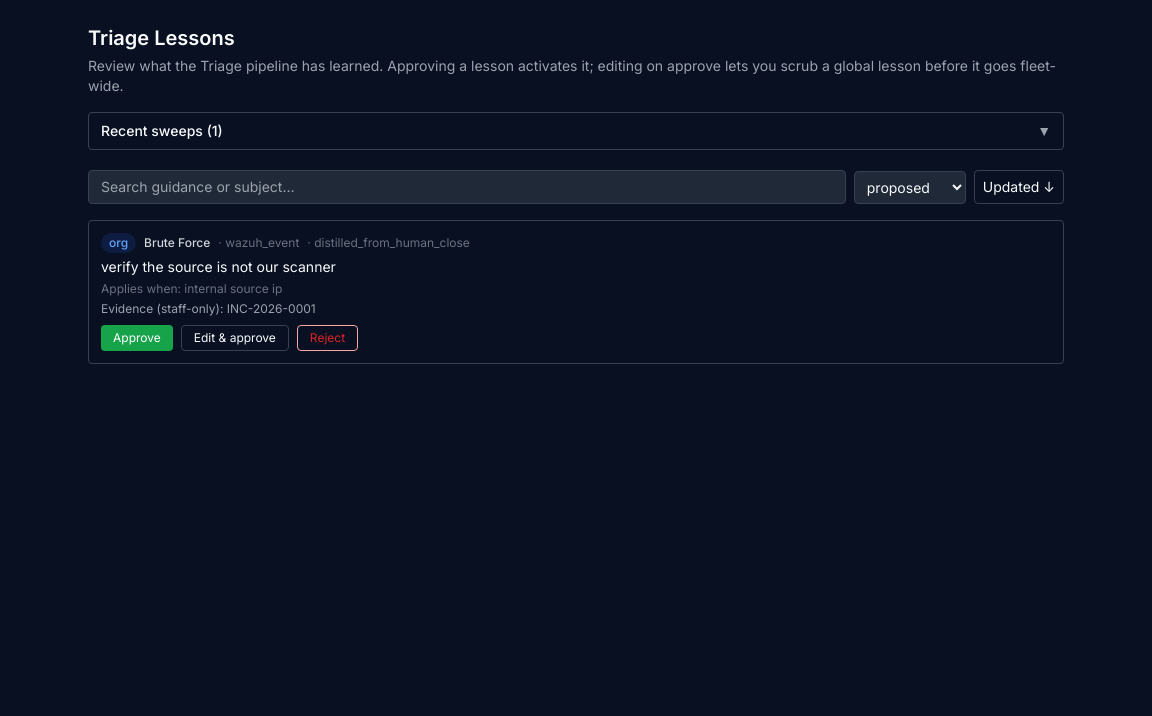
Test: TriageLessonsReview — recent sweeps (#697) › exposes the distiller LLM I/O and errors for troubleshooting (#697)
Step 1. Click the text "Recent sweeps (1)" → (162, 131), box [101,121,223,141]
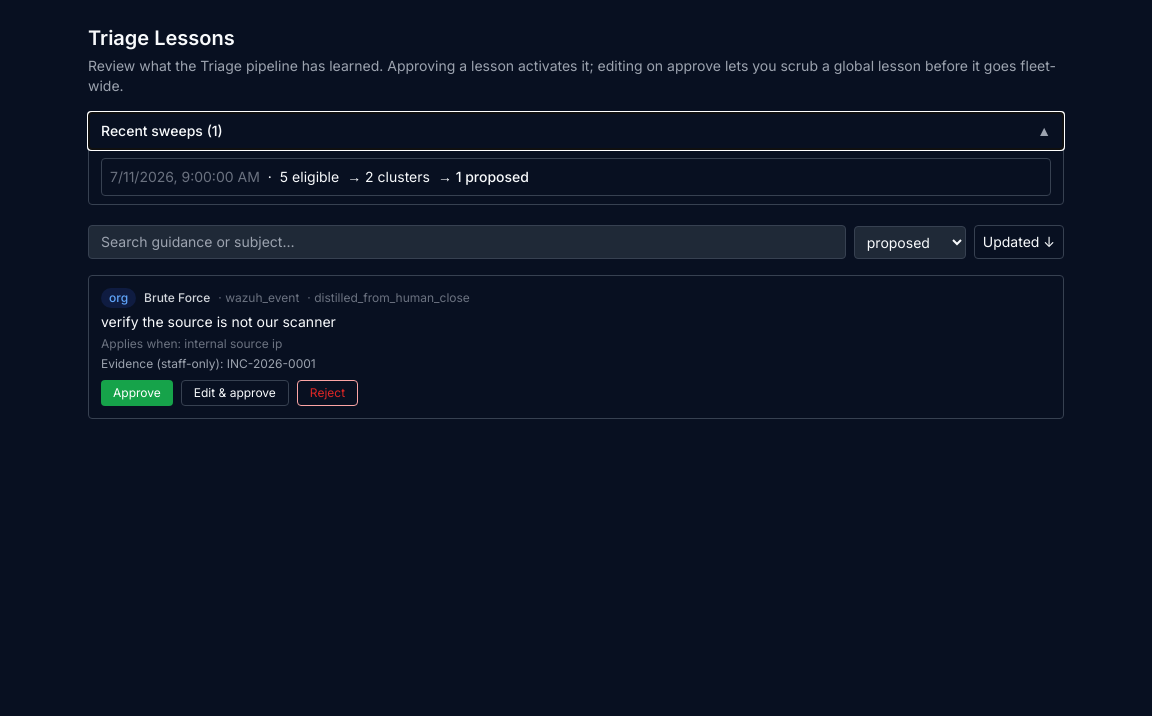
Step 2. Click the text "→ 1 proposed" → (483, 177), box [438,167,529,187]
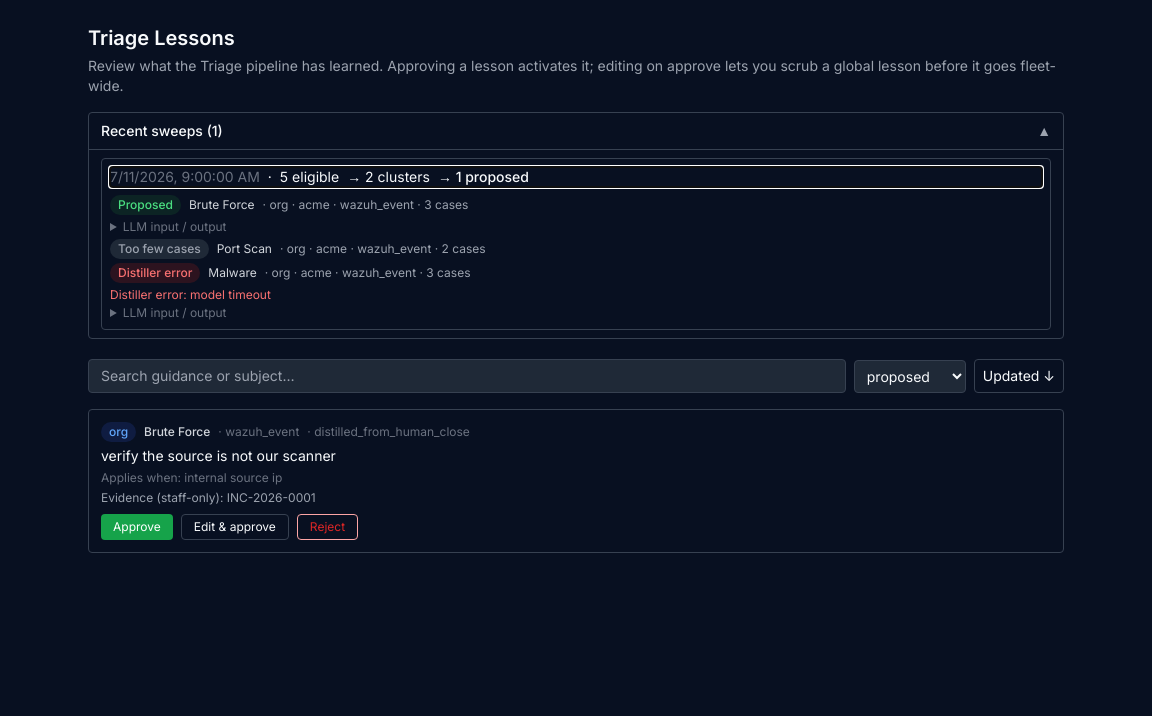
Now the 1st heading "LLM input / output" is shown
Step 3. Click the 1st heading "LLM input / output" → (175, 226), box [123,219,226,234]
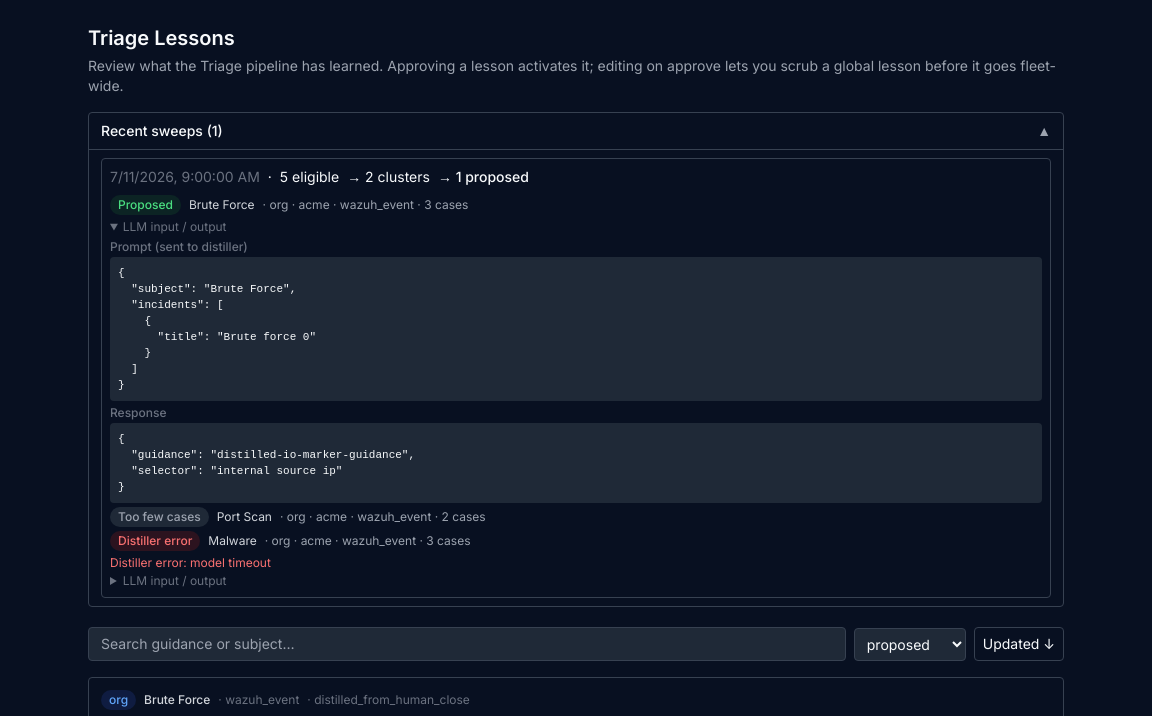
Now the text "Distiller error: model timeout" is shown, box [110,555,271,570]
Now the text "Prompt (sent to distiller)" is shown, box [110,239,248,254]
Now the text "distilled-io-marker-guidance" is shown, box [118,433,415,493]
